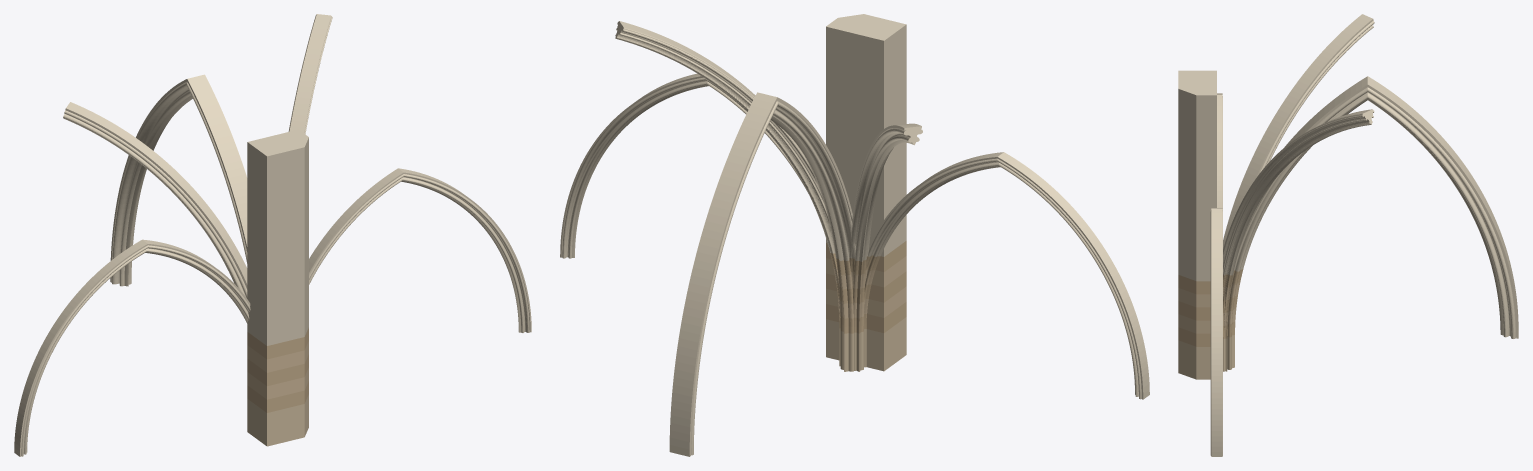
File: springer_variant.glb
3 renders of one model, left to right at view 1: azimuth 30°, elevation 25°; view 2: azimuth 150°, elevation 25°; view 3: azimuth 270°, elevation 25°, orthographic. The views are drawn at different scales.
Parts seen in each view (by area): view 1: receiver, member_0, member_3, member_1, member_4, member_2, derived_respond, course_03, course_01, course_02, course_04, course_05; view 2: member_0, receiver, member_3, member_2, member_4, member_1, derived_respond, course_01, course_02, course_03, course_04, course_05; view 3: member_0, receiver, member_1, member_2, member_4, derived_respond, course_05, member_3, course_04, course_03, course_02, course_01.
Boxes of the visible parts, bbox=[...] form: receiver: bbox=[247, 129, 308, 345]; member_0: bbox=[110, 74, 247, 286]; member_3: bbox=[14, 239, 250, 456]; member_1: bbox=[63, 102, 247, 298]; member_4: bbox=[309, 168, 531, 332]; member_2: bbox=[288, 14, 332, 134]; derived_respond: bbox=[247, 394, 308, 446]; course_03: bbox=[247, 354, 308, 386]; course_01: bbox=[247, 381, 308, 412]; course_02: bbox=[247, 368, 308, 399]; course_04: bbox=[247, 341, 308, 372]; course_05: bbox=[247, 327, 308, 359]; member_0: bbox=[669, 92, 855, 456]; receiver: bbox=[826, 14, 906, 256]; member_3: bbox=[868, 152, 1149, 399]; member_2: bbox=[615, 21, 835, 253]; member_4: bbox=[560, 73, 808, 258]; member_1: bbox=[849, 123, 922, 261]; derived_respond: bbox=[826, 317, 906, 371]; course_01: bbox=[826, 302, 906, 333]; course_02: bbox=[826, 286, 906, 318]; course_03: bbox=[826, 271, 906, 303]; course_04: bbox=[826, 256, 906, 289]; course_05: bbox=[826, 241, 906, 275]; member_0: bbox=[1234, 76, 1518, 338]; receiver: bbox=[1178, 70, 1216, 281]; member_1: bbox=[1223, 14, 1374, 248]; member_2: bbox=[1223, 109, 1374, 275]; member_4: bbox=[1210, 208, 1222, 456]; derived_respond: bbox=[1178, 335, 1234, 379]; course_05: bbox=[1178, 269, 1243, 294]; member_3: bbox=[1217, 93, 1222, 209]; course_04: bbox=[1178, 282, 1240, 307]; course_03: bbox=[1178, 295, 1237, 320]; course_02: bbox=[1178, 308, 1236, 333]; course_01: bbox=[1178, 322, 1235, 346].
Bounding box in the file's own units: 4800 × 2900 × 2820.
